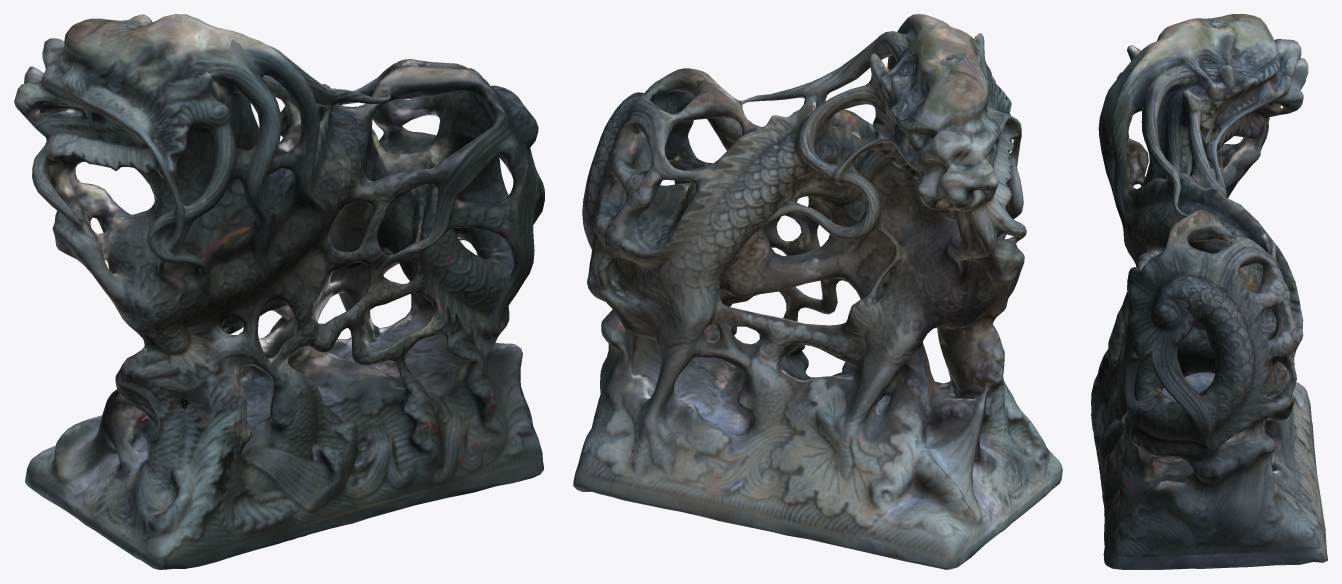
File: dragon_sculpture.glb
3 renders of one model, left to right at view 1: azimuth 30°, elevation 25°; view 2: azimuth 150°, elevation 25°; view 3: azimuth 270°, elevation 25°, orthographic. The views are drawn at different scales.
Parts seen in each view (by area): view 1: dragon2_LOW15K_b; view 2: dragon2_LOW15K_b; view 3: dragon2_LOW15K_b.
Boxes of the visible parts, left/top/right/bottom form: dragon2_LOW15K_b: left=14, top=14, right=544, bottom=569; dragon2_LOW15K_b: left=573, top=14, right=1062, bottom=569; dragon2_LOW15K_b: left=1091, top=14, right=1327, bottom=569.
Size of the model in its own units: 14.41 by 14.67 by 7.57.
1 material, 1 textured.
